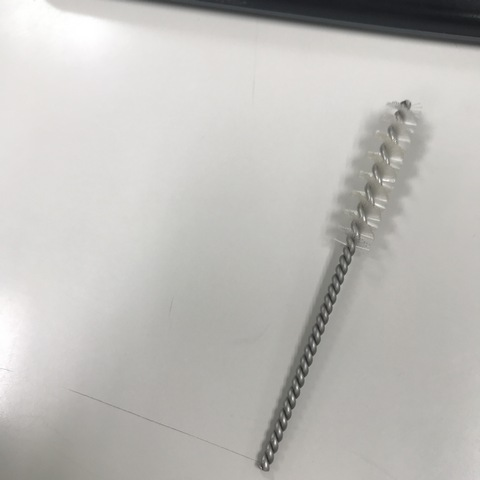Twist Brush-B: (253, 98, 431, 473)
